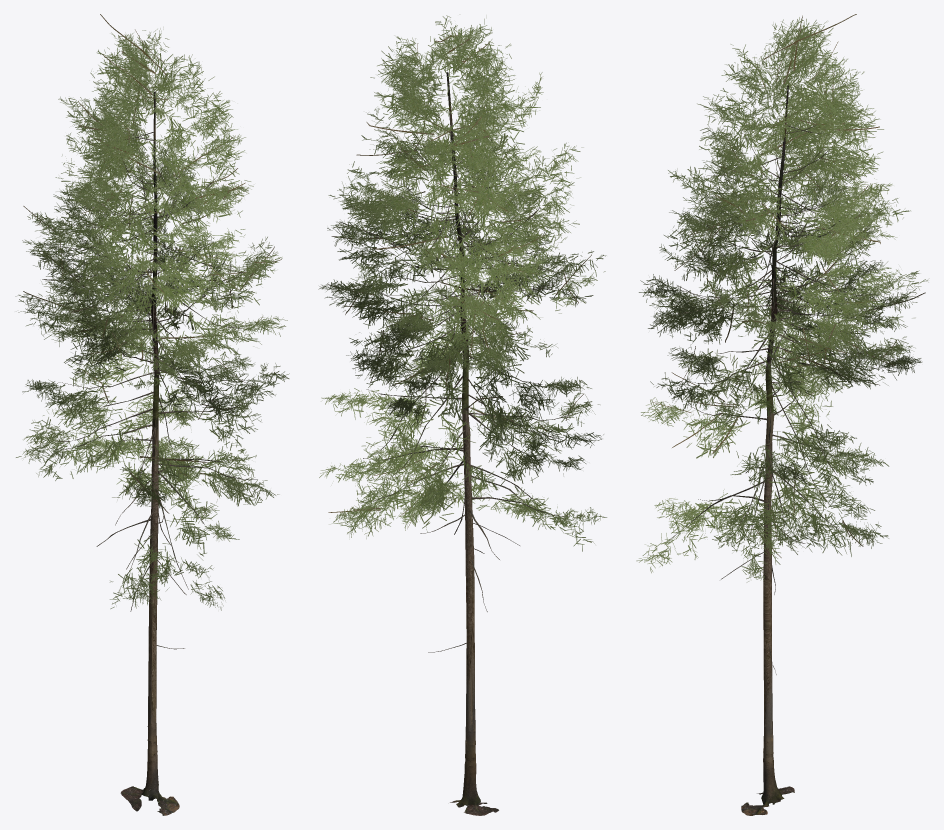
Rendered from ptree_fir.glb.
3 renders of one model, left to right at view 1: azimuth 30°, elevation 25°; view 2: azimuth 150°, elevation 25°; view 3: azimuth 270°, elevation 25°, orthographic. The views are drawn at different scales.
Parts seen in each view (by area): view 1: ptree_fir_v0_lod0; view 2: ptree_fir_v0_lod0; view 3: ptree_fir_v0_lod0.
Boxes of the visible parts, x1,y1,x2,y2 form: ptree_fir_v0_lod0: (15, 14, 289, 815); ptree_fir_v0_lod0: (318, 15, 606, 815); ptree_fir_v0_lod0: (636, 14, 928, 815).
Size of what is drawn, in the model's own units: 6.97 by 20.09 by 6.77.
Materials: 4 (4 with a texture image).
